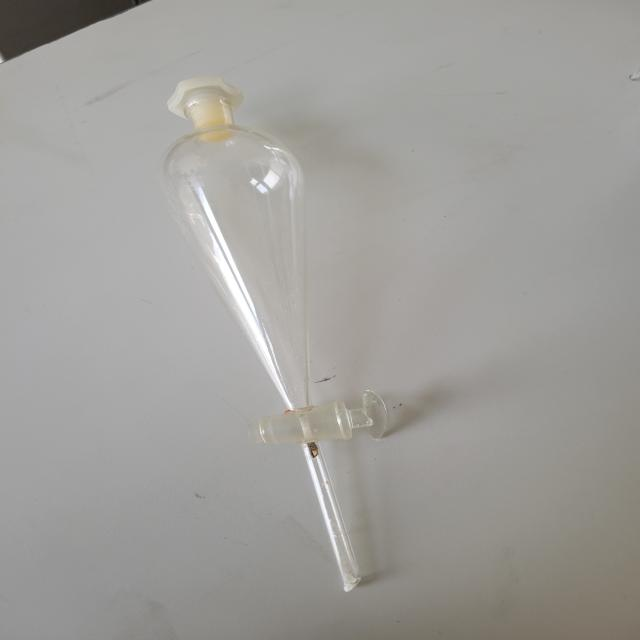Separating_Funnel: (123, 53, 460, 612)
